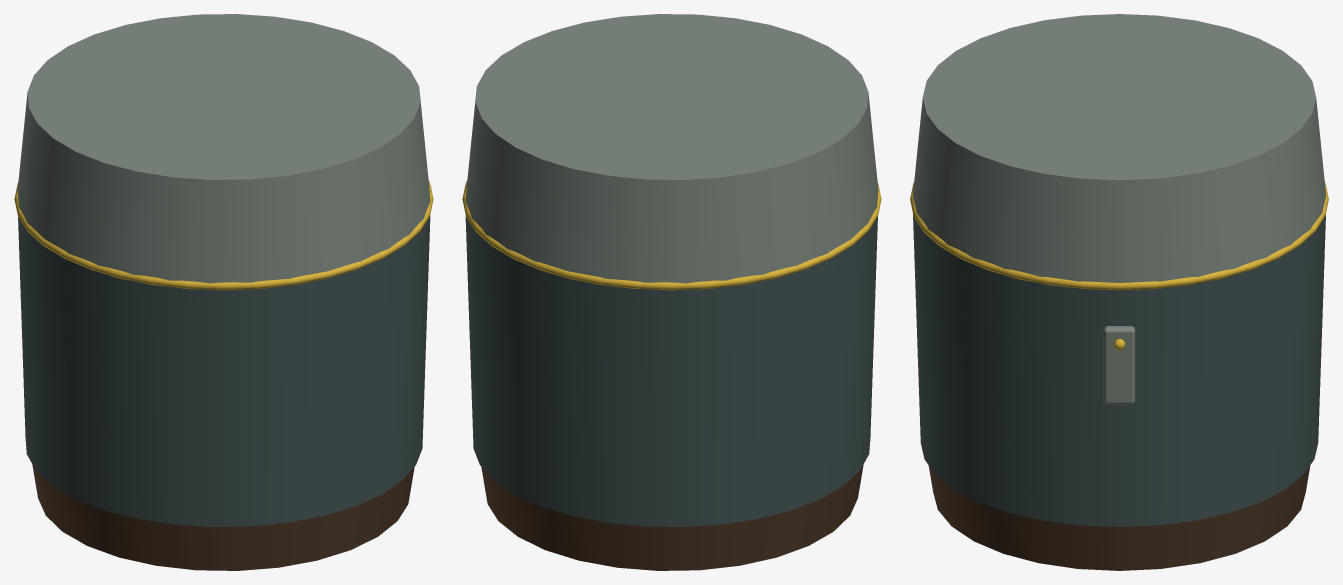
File: campus-pouf-walnut.glb
3 renders of one model, left to right at view 1: azimuth 30°, elevation 25°; view 2: azimuth 150°, elevation 25°; view 3: azimuth 270°, elevation 25°, orthographic.
Bounding box in the file's own units: 0.4394 × 0.4422 × 0.4248.
